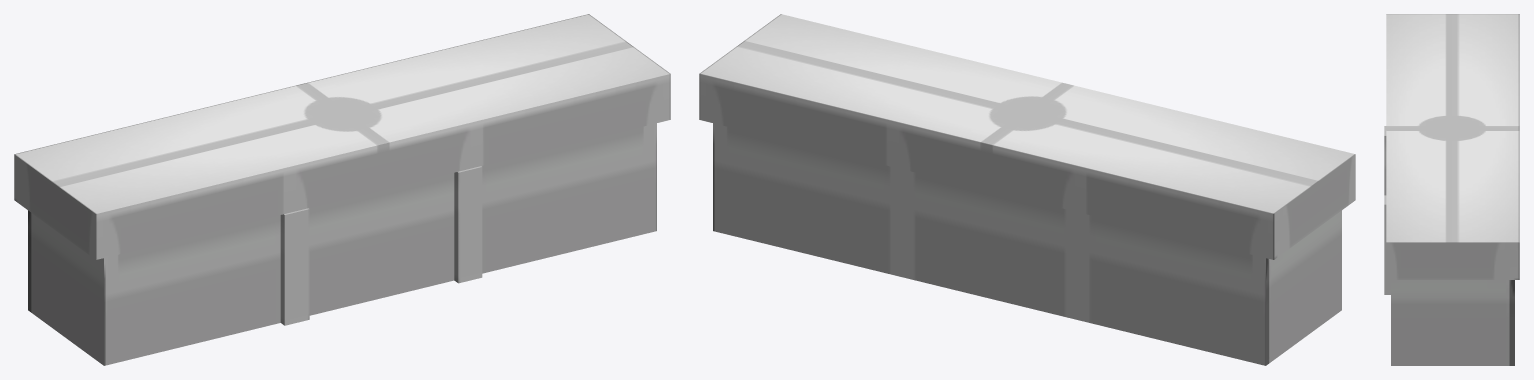
The model's file is Building_Altar_Medium.obj.
The picture shows the model from 3 angles, left to right: view 1: azimuth 30°, elevation 25°; view 2: azimuth 150°, elevation 25°; view 3: azimuth 270°, elevation 25°; orthographic projection. The views are drawn at different scales.
Visible parts, largest first — view 1: Body; view 2: Body; view 3: Body.
Boxes of the visible parts, x1=… form: Body: x1=14, y1=14, x2=670, y2=365; Body: x1=699, y1=14, x2=1355, y2=365; Body: x1=1384, y1=14, x2=1519, y2=365.
Bounding box in the file's own units: 2.88 × 0.75 × 0.72.
1 material, 1 textured.
